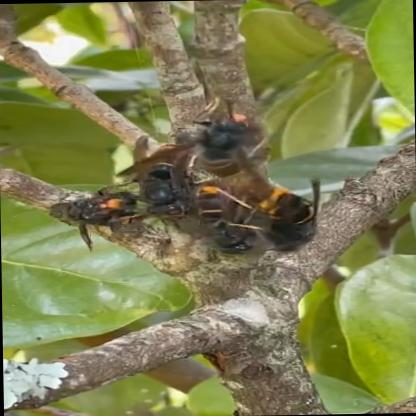bee: (45, 94, 314, 278)
